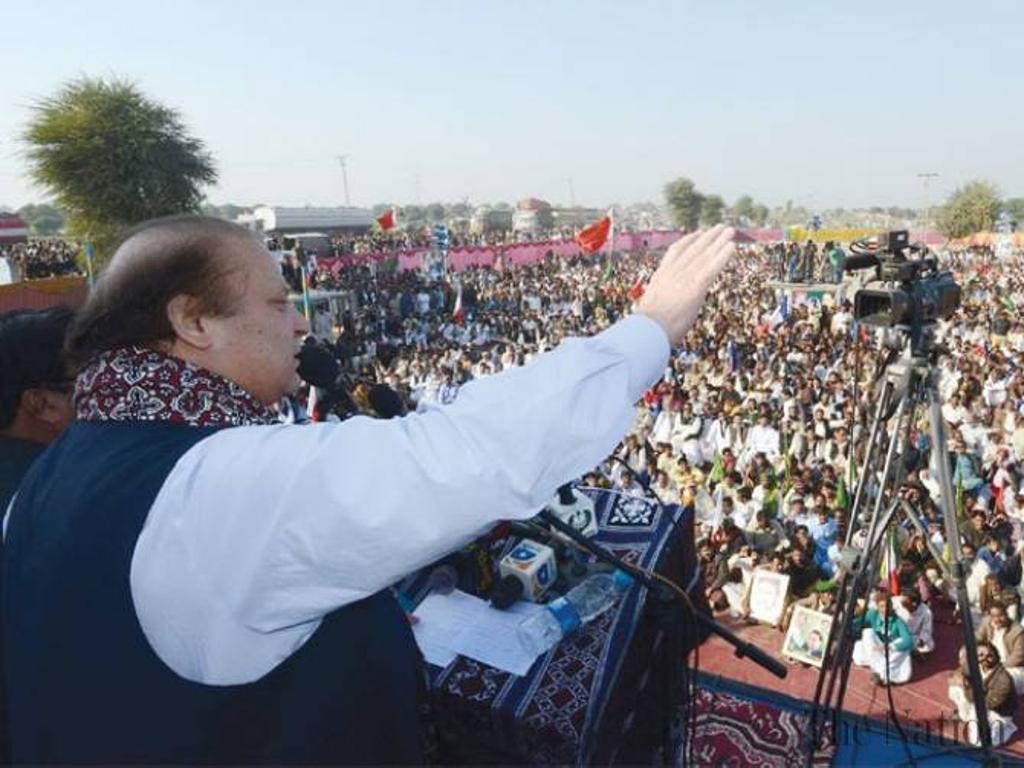face: (213, 241, 311, 401)
